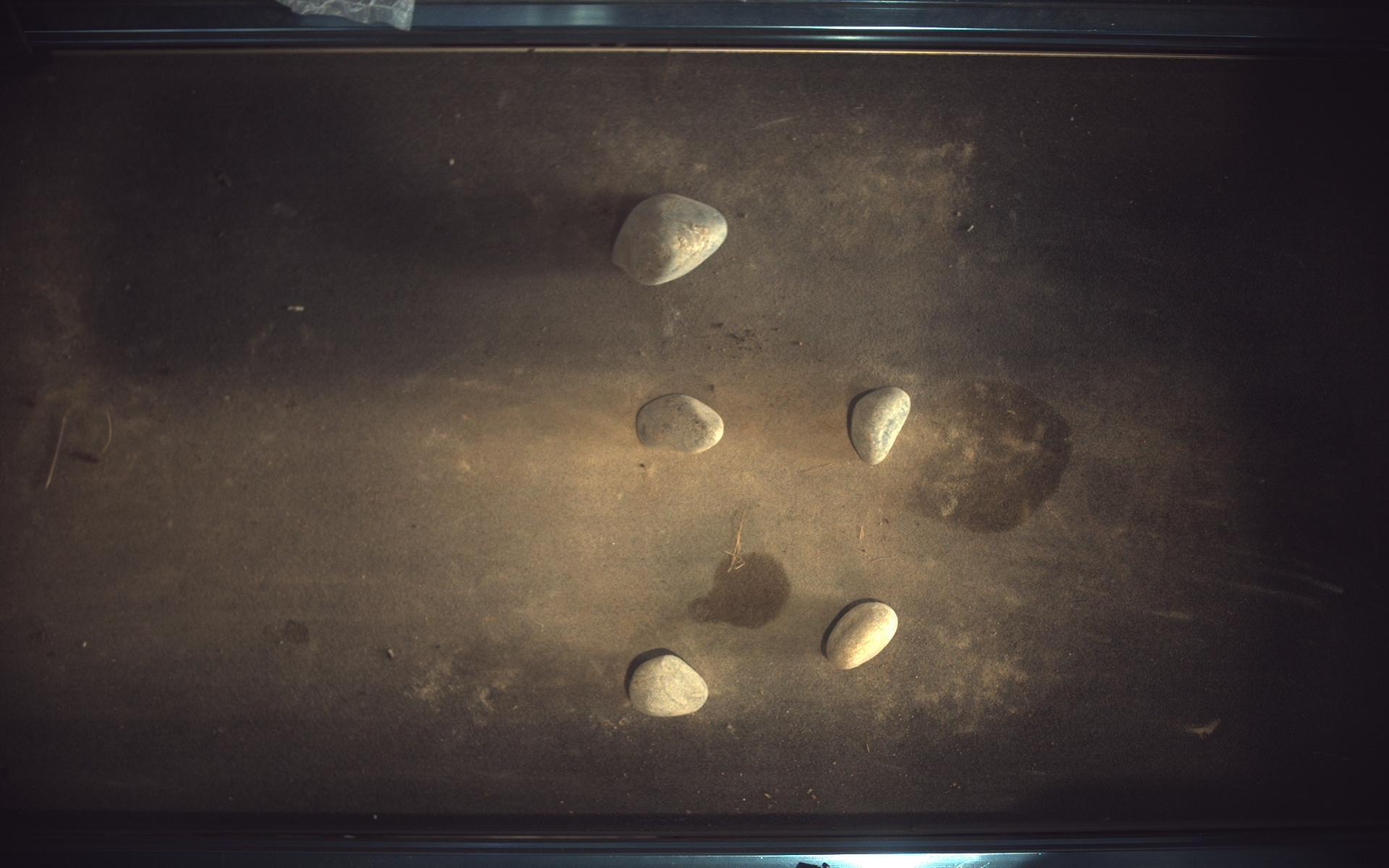stone: (613, 192, 729, 285), (626, 649, 710, 718), (823, 600, 900, 671), (637, 394, 724, 454), (851, 387, 912, 465)
